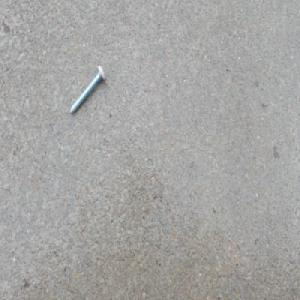Nail: (67, 63, 105, 117)
